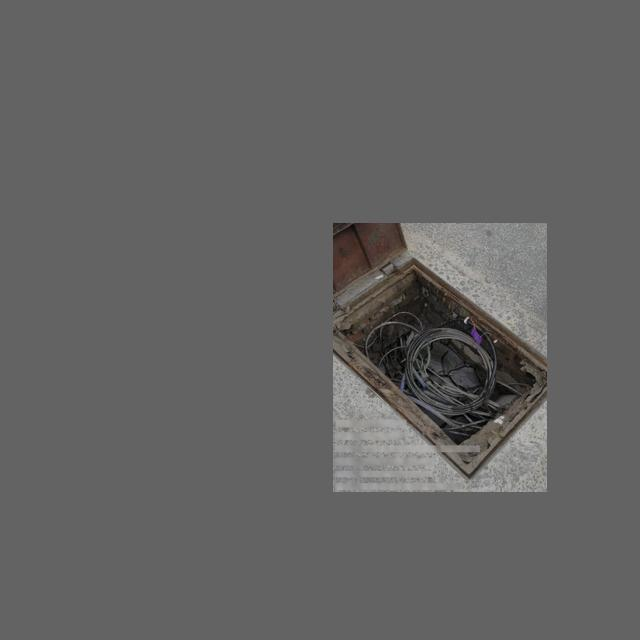uncovered: (333, 224, 547, 478)
